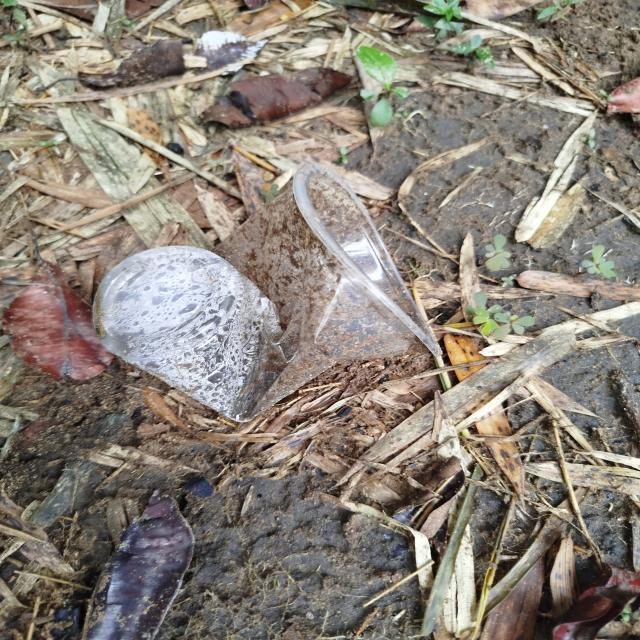plastic: (87, 163, 460, 430)
